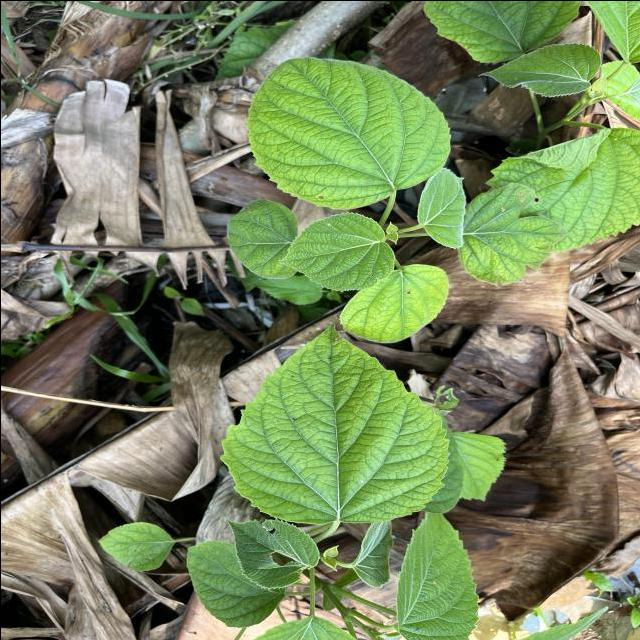Clerodendrum infortunatum: (218, 322, 451, 526), (244, 54, 452, 210), (392, 509, 480, 640), (277, 210, 395, 292), (336, 262, 450, 345), (224, 197, 297, 279)
